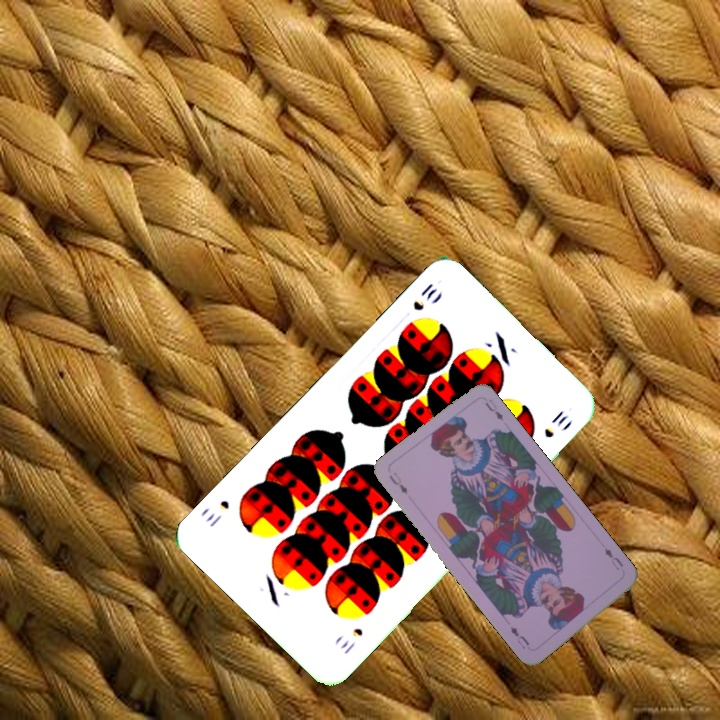EU: (600, 544, 626, 573), (385, 468, 410, 496)
S10: (409, 278, 440, 314), (336, 623, 366, 657)
